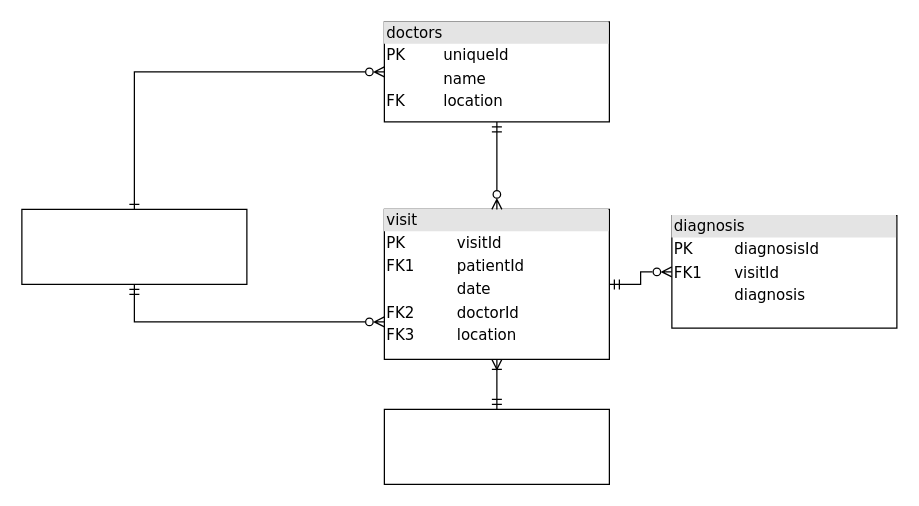
Image size: 919x506. Some labels were removed from this diagram. The shapes that lost their labels are listed below. From the top down, each one's centre as x and y in pixels, then its label:
(134,246): medicalCtr PK centerId name
(496,446): patient PK uniqueId FK1 name
